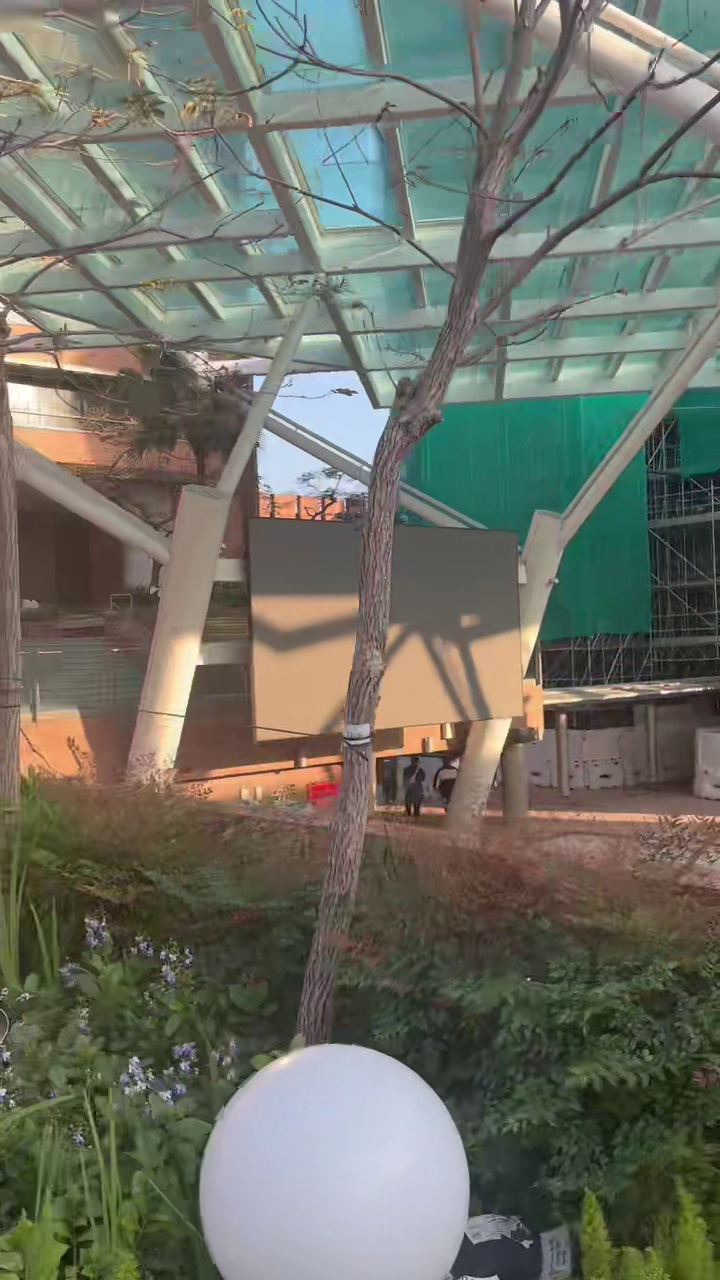Tabebuia chrysantha: (297, 0, 719, 1044)
